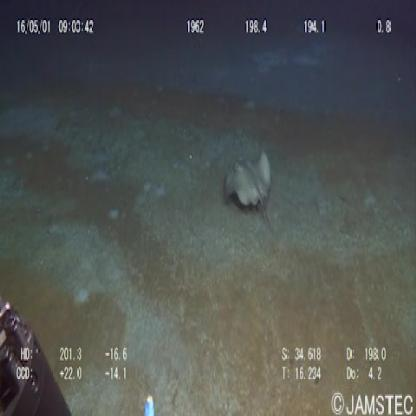Bio: (220, 142, 277, 235)
